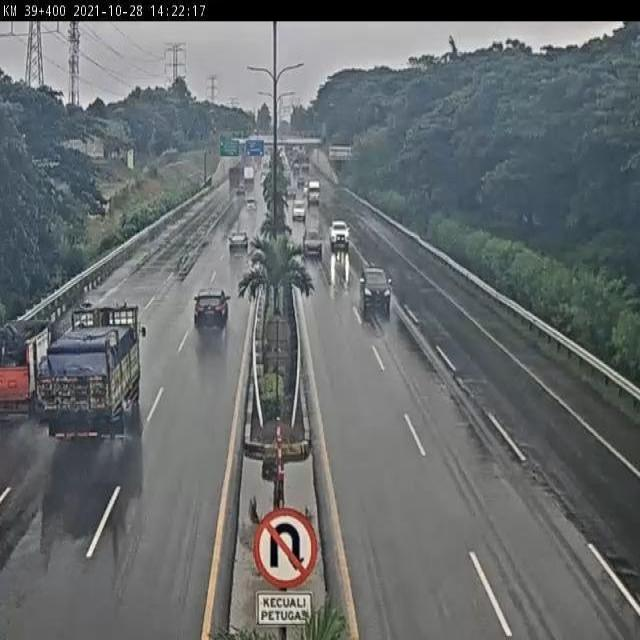Car: (193, 287, 231, 329), (359, 267, 393, 311), (327, 219, 351, 250), (302, 227, 322, 257), (227, 230, 251, 253), (292, 199, 307, 221), (245, 198, 258, 211), (285, 186, 297, 200), (235, 183, 247, 196), (302, 182, 310, 196), (297, 177, 304, 188)
Truck: (40, 301, 147, 440), (0, 315, 64, 425), (307, 178, 321, 206), (228, 164, 240, 183), (243, 165, 255, 182)
